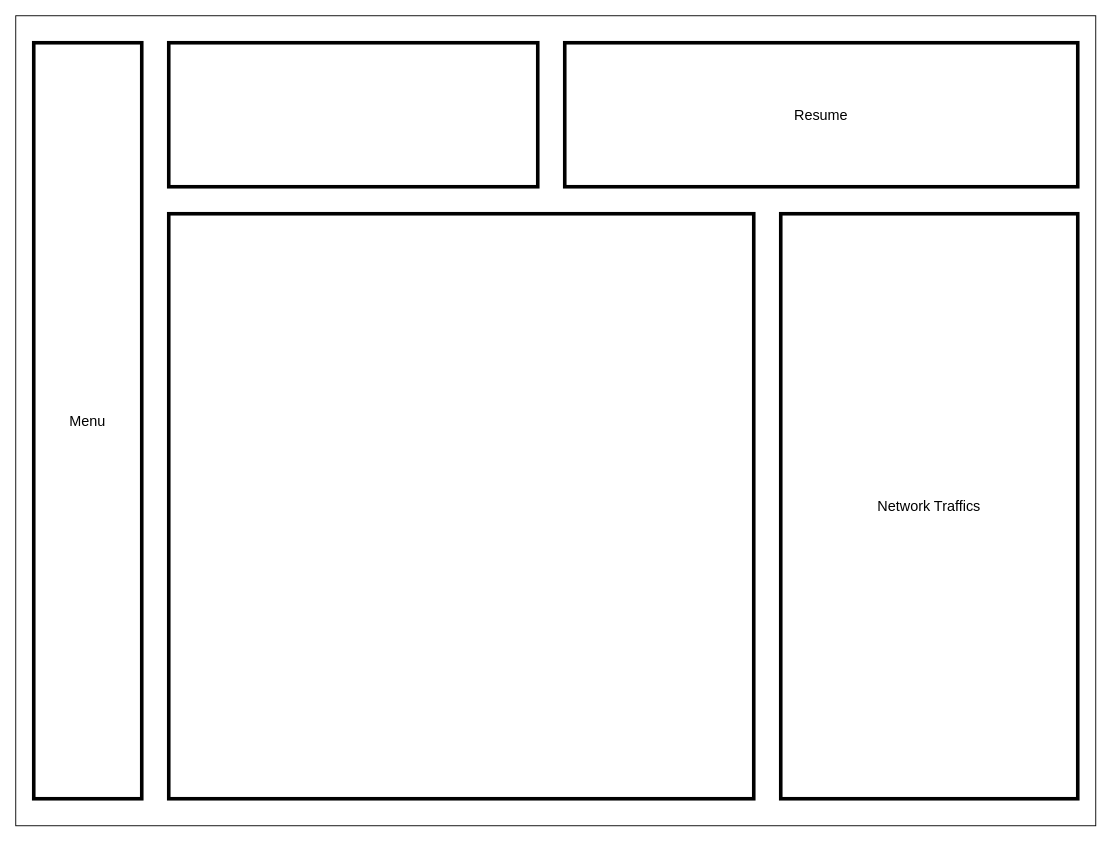
This 1112x842 diagram has some shape labels left out. The centre of each missing label's shape, as x and y in pixels:
"Groups User" belongs at (x=460, y=506).
"Interface" belongs at (x=352, y=114).
